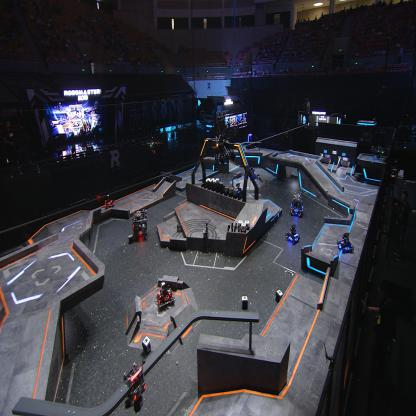car: (156, 280, 176, 310), (131, 209, 147, 239), (288, 191, 304, 218), (336, 232, 354, 254), (285, 224, 301, 244), (245, 165, 255, 181), (106, 193, 115, 209), (234, 182, 244, 196)
